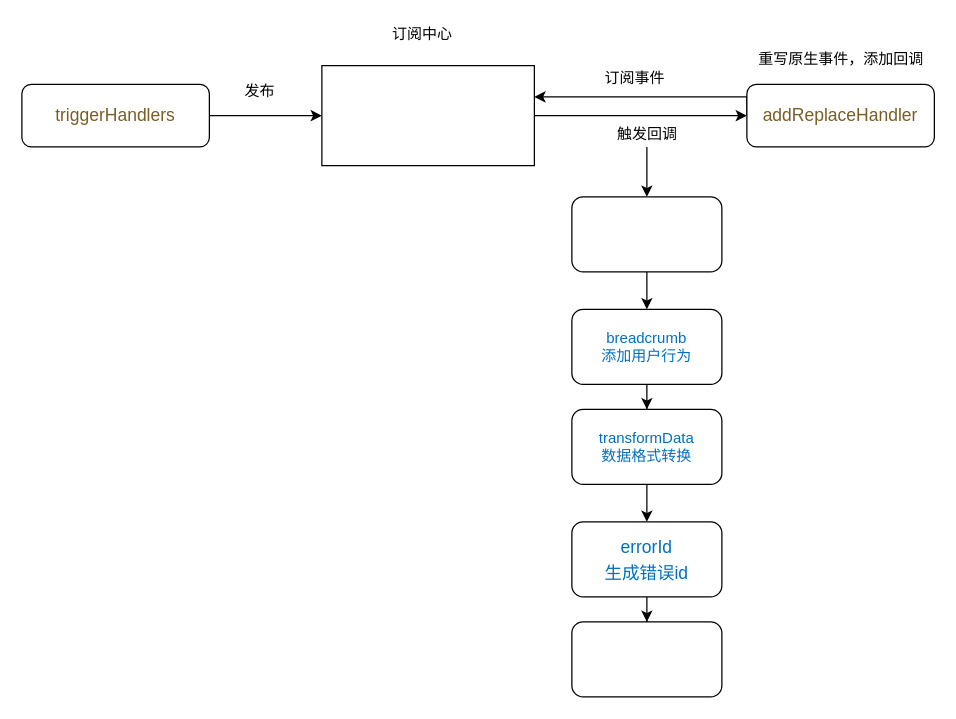
Some shapes in this 956 by 719 pixel diagram are drawn without their labels. The centre of each missing label's shape, as x and y in pixels:
"HandleEvents 处理事件回调" goes at point 646,234.
"handlers[]" goes at point 427,115.
"transportData 发送到服务端" goes at point 646,659.
